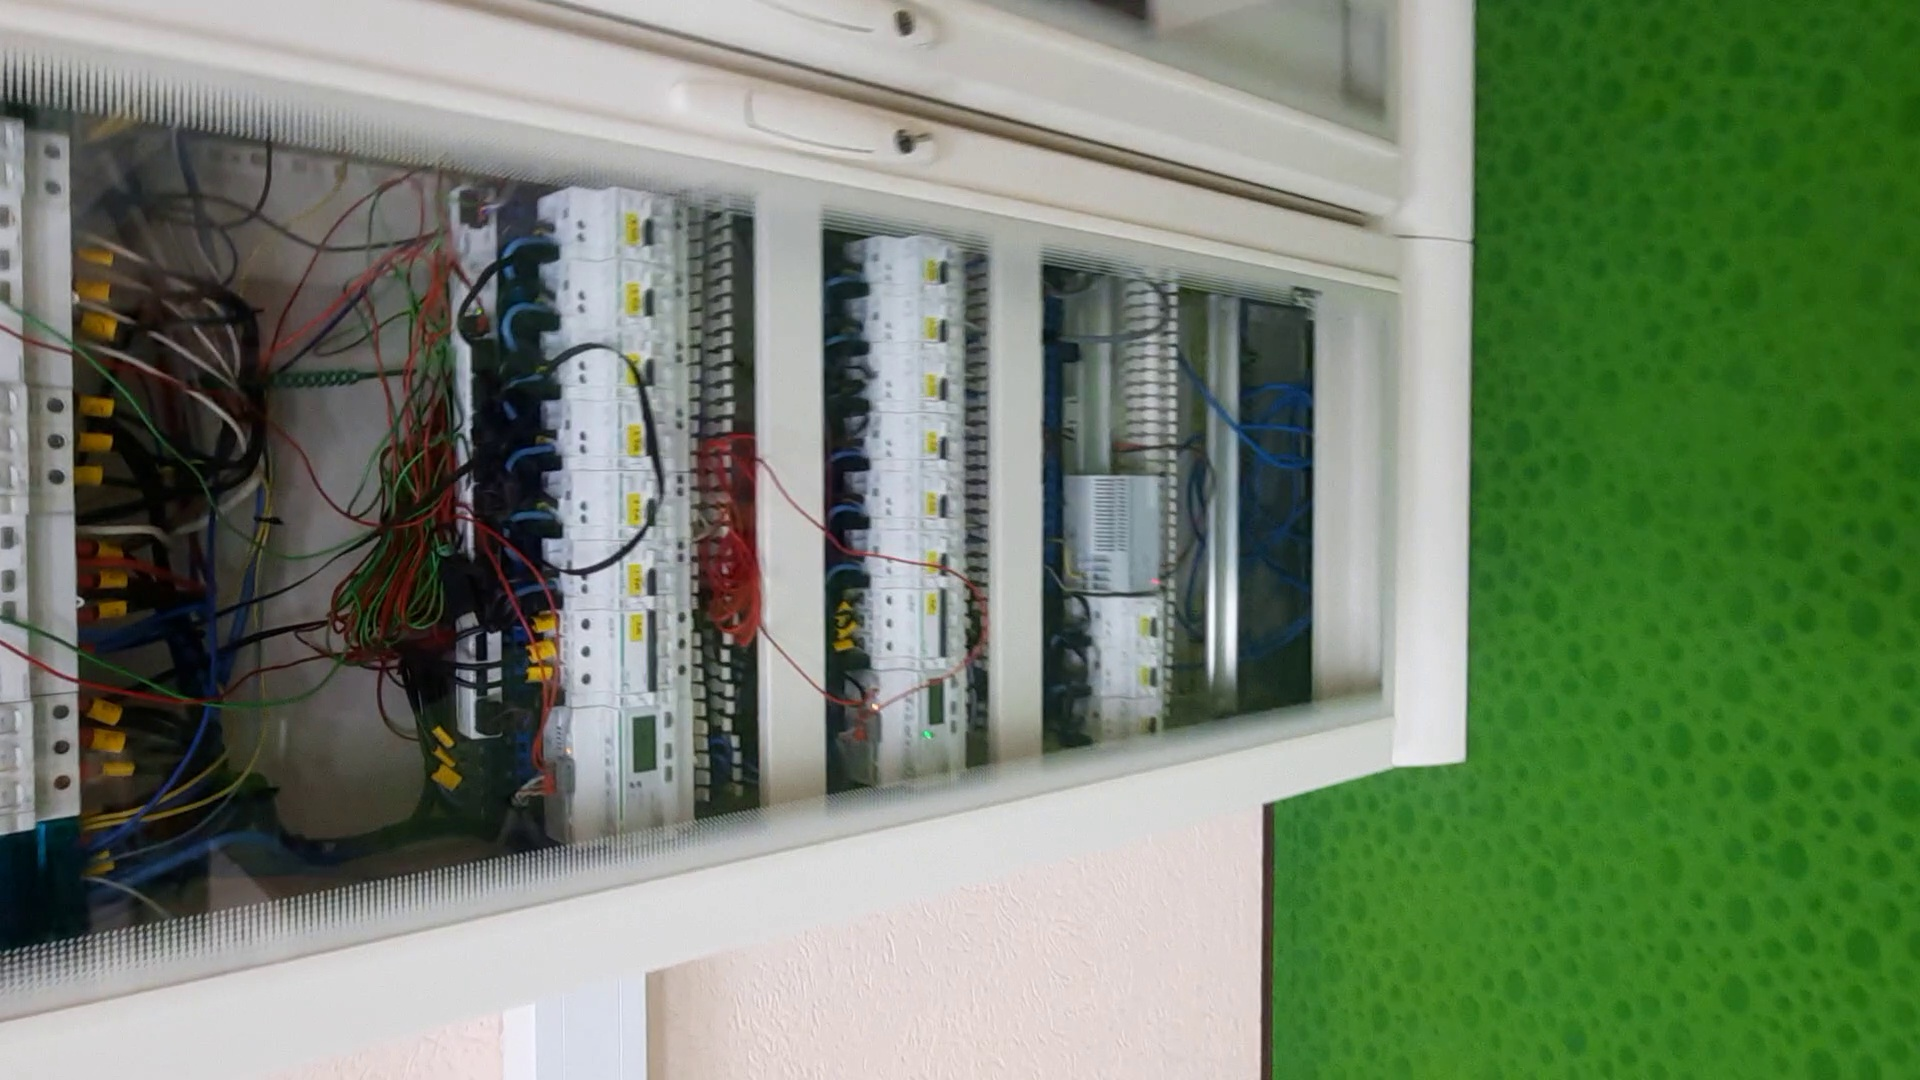stand1: (1, 7, 1480, 998)
